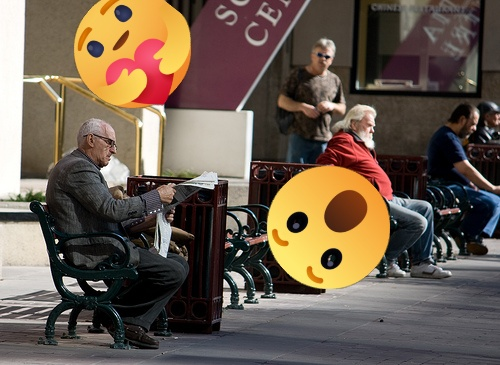care: (74, 0, 191, 108)
wow: (267, 166, 390, 289)
